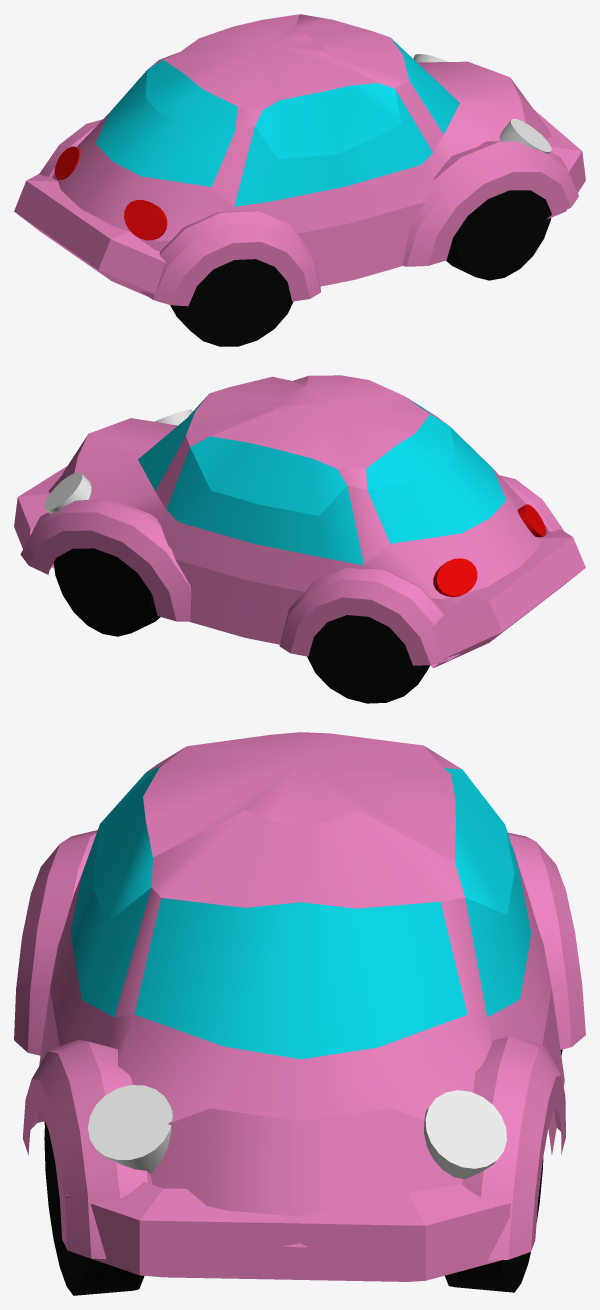
File: pink beetle.fbx
3 views of the same model, one above another, from view 1: azimuth 30°, elevation 25°; view 2: azimuth 150°, elevation 25°; view 3: azimuth 270°, elevation 25° (orthographic). The views are drawn at different scales.
Parts seen in each view (by area): view 1: pSphere4; view 2: pSphere4; view 3: pSphere4.
Boxes of the visible parts, bbox=[...] form: pSphere4: bbox=[14, 14, 585, 346]; pSphere4: bbox=[14, 375, 585, 703]; pSphere4: bbox=[14, 732, 585, 1295].
Bounding box in the file's own units: 27.72 × 12.09 × 16.32.
